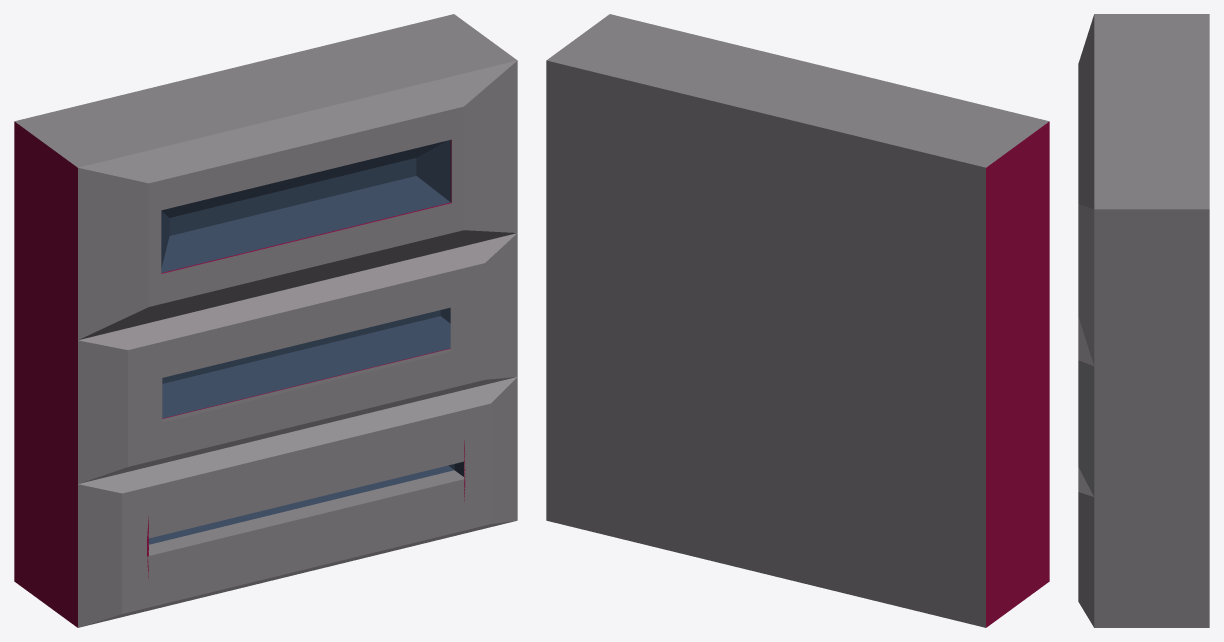
The model's file is WallPanel_03.fbx.
3 renders of one model, left to right at view 1: azimuth 30°, elevation 25°; view 2: azimuth 150°, elevation 25°; view 3: azimuth 270°, elevation 25°, orthographic. The views are drawn at different scales.
Parts seen in each view (by area): view 1: Cube.016; view 2: Cube.016; view 3: Cube.016.
Boxes of the visible parts, box(x1,y1,x2,y2) form: Cube.016: box(14, 14, 517, 627); Cube.016: box(546, 14, 1049, 627); Cube.016: box(1078, 14, 1209, 627).
Size of the model in its own units: 800 by 800 by 228.
